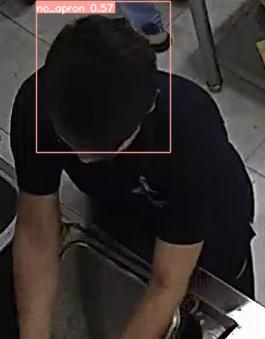no_apron: (23, 15, 229, 261)
